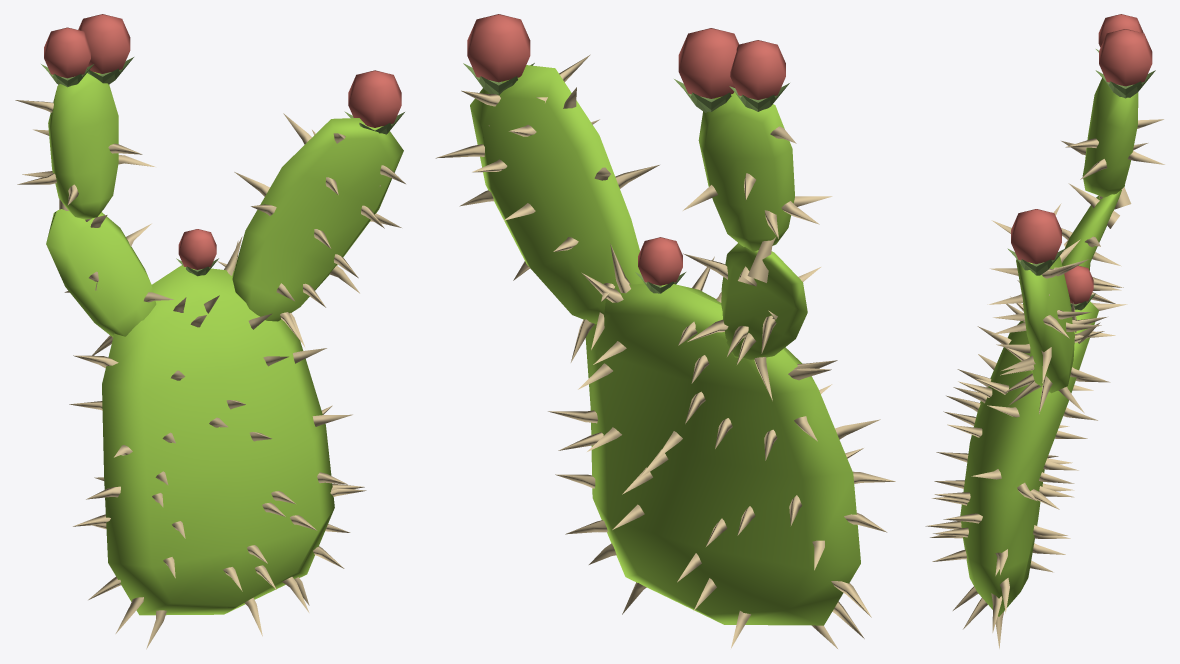
File: MCactus3.fbx
3 renders of one model, left to right at view 1: azimuth 30°, elevation 25°; view 2: azimuth 150°, elevation 25°; view 3: azimuth 270°, elevation 25°, orthographic. The views are drawn at different scales.
Parts seen in each view (by area): view 1: MCactus3; view 2: MCactus3; view 3: MCactus3.
Boxes of the visible parts, <box> form: MCactus3: <box>15,14,405,649</box>; MCactus3: <box>435,14,895,648</box>; MCactus3: <box>925,14,1164,648</box>.
Size of the model in its own units: 228 by 357 by 141.
